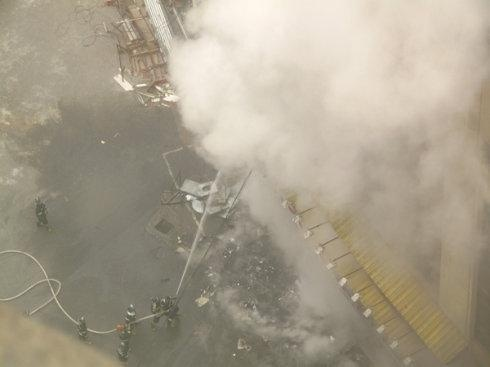fire: (111, 67, 180, 108)
